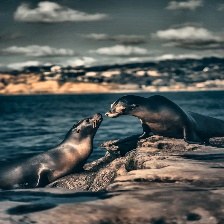seal: (1, 113, 103, 188), (105, 94, 212, 144)
